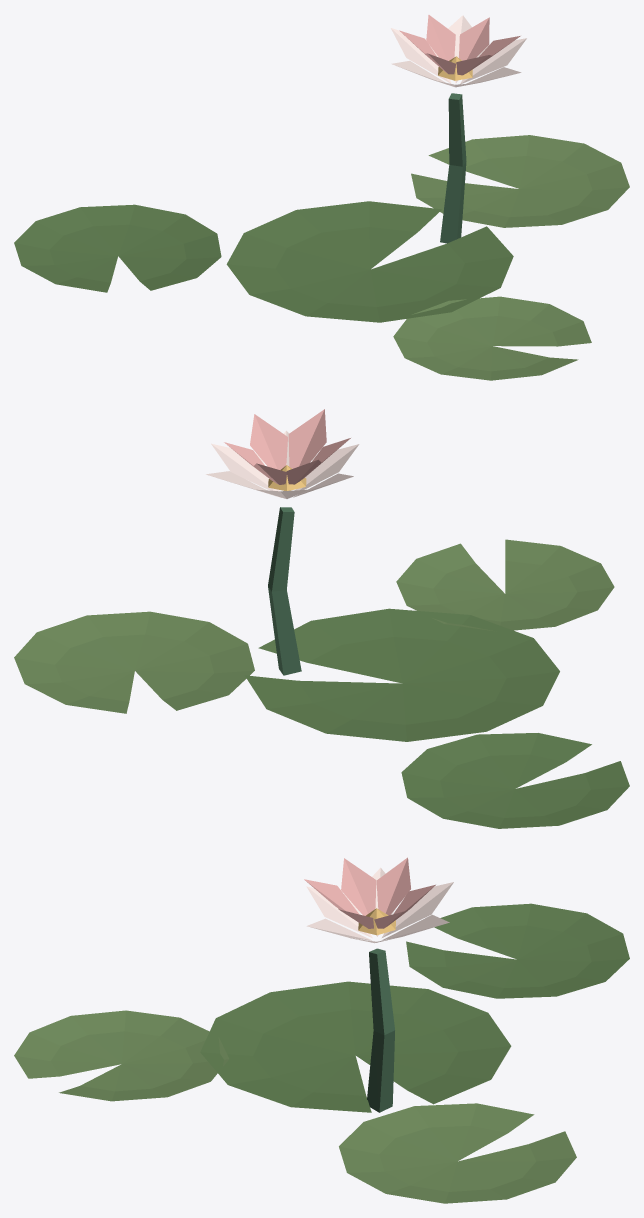
File: lilypad.glb
3 views of the same model, one above another, from view 1: azimuth 30°, elevation 25°; view 2: azimuth 150°, elevation 25°; view 3: azimuth 270°, elevation 25° (orthographic). The views are drawn at different scales.
Parts seen in each view (by area): view 1: lilypad; view 2: lilypad; view 3: lilypad.
Boxes of the visible parts, left/top/right/bottom form: lilypad: left=14, top=15, right=629, bottom=380; lilypad: left=14, top=409, right=629, bottom=828; lilypad: left=14, top=857, right=629, bottom=1203.
Bounding box in the file's own units: 0.5837 × 0.212 × 0.5139.
